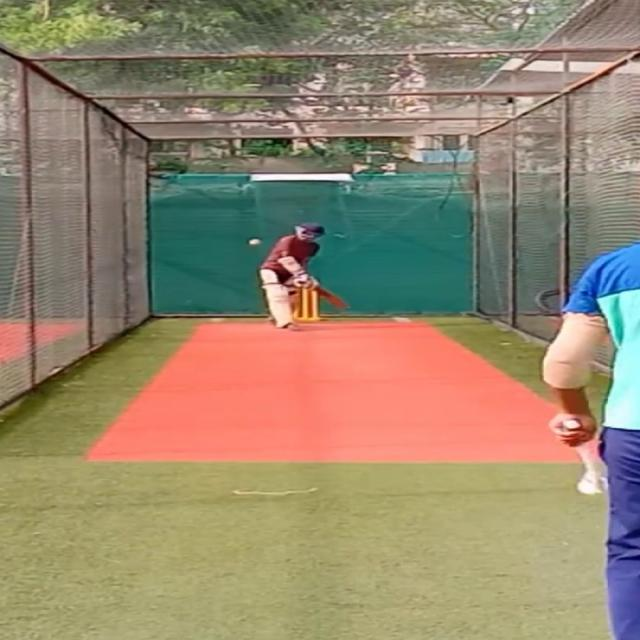ball: (248, 235, 263, 246)
stump: (295, 288, 321, 320)
